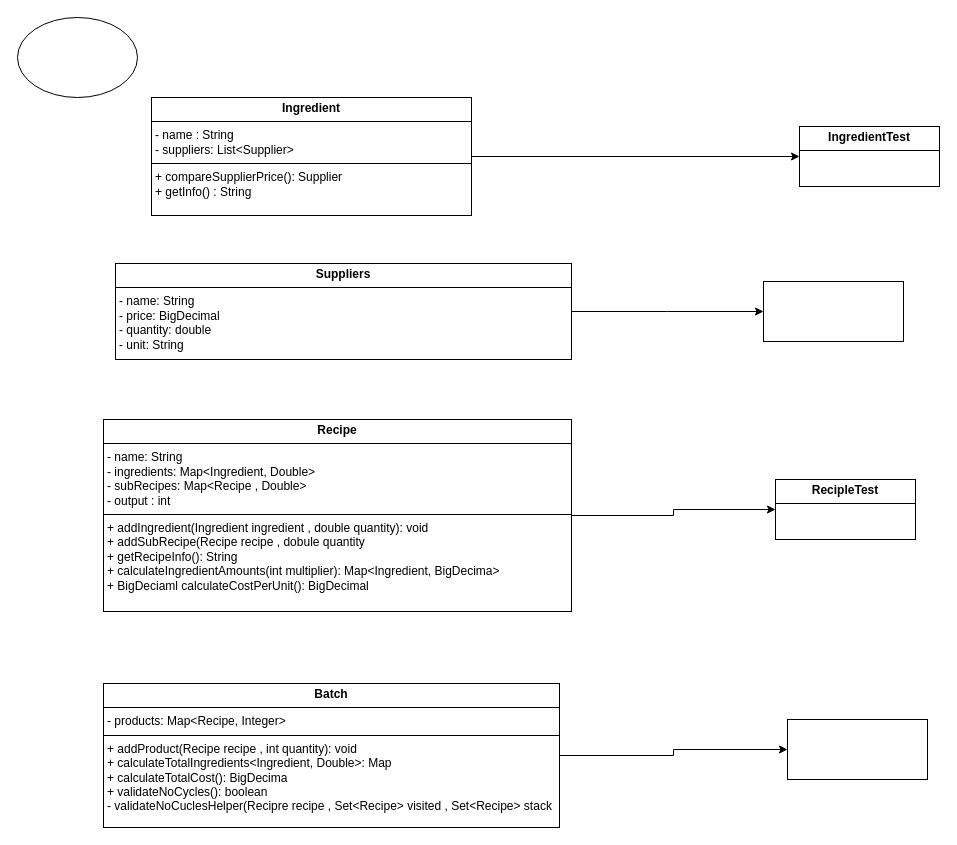
Image size: 957x845. Some labels were removed from this diagram. Each missing label, with the box of its shape:
BatchTest: (786, 718, 928, 780)
Normal Getter and Setter will not included: (16, 16, 138, 98)
SuppliersTest: (762, 280, 904, 342)
